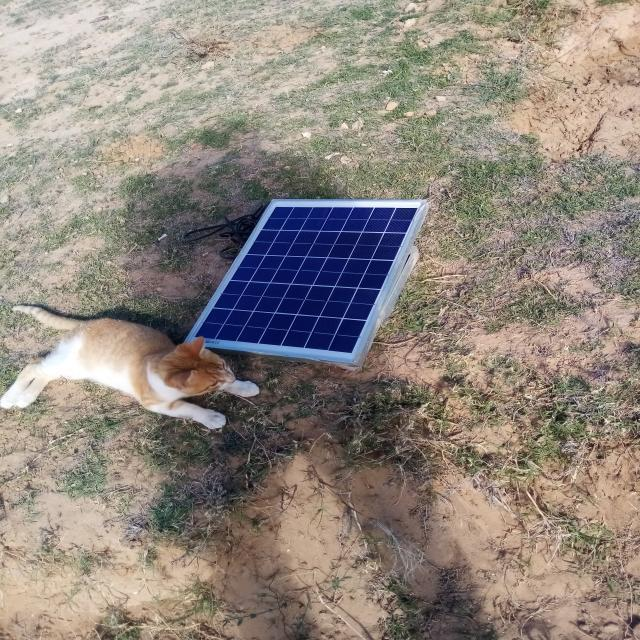Normal Solar Panel: (185, 200, 426, 364)
